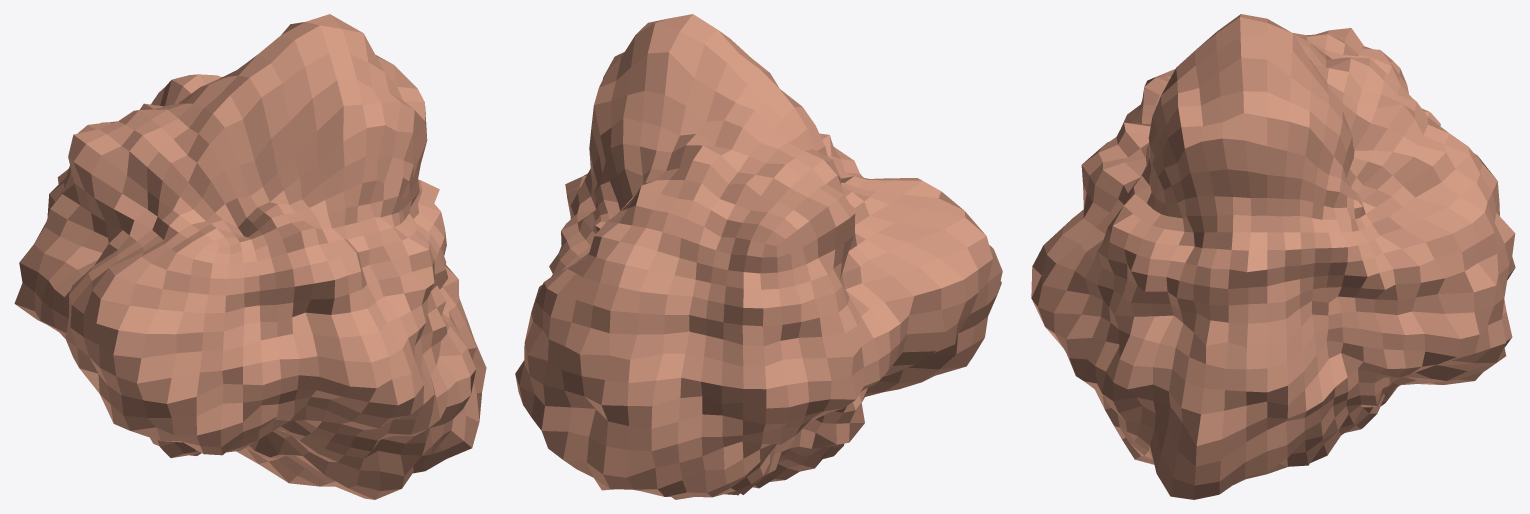
Rendered from AsteroidThree.dae.
3 views of the same model, side by side, from view 1: azimuth 30°, elevation 25°; view 2: azimuth 150°, elevation 25°; view 3: azimuth 270°, elevation 25° (orthographic).
Visible parts, largest first — view 1: Cube; view 2: Cube; view 3: Cube.
Boxes of the visible parts, left/top/right/bottom form: Cube: left=14, top=14, right=486, bottom=499; Cube: left=515, top=14, right=1002, bottom=499; Cube: left=1031, top=14, right=1515, bottom=499.
Size of the model in its own units: 1.87 by 1.95 by 2.02.
